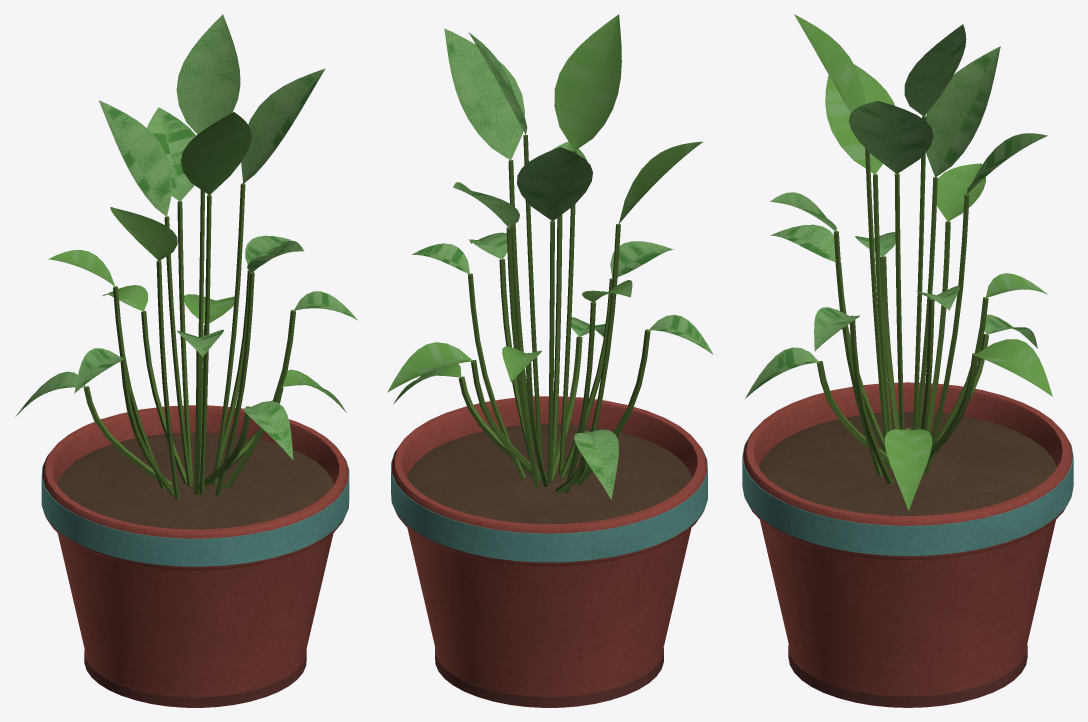
The model's file is potted_plant.glb.
The picture shows the model from 3 angles, left to right: view 1: azimuth 30°, elevation 25°; view 2: azimuth 150°, elevation 25°; view 3: azimuth 270°, elevation 25°; orthographic projection. The views are drawn at different scales.
Visible parts, largest first — view 1: PottedPlantBody; view 2: PottedPlantBody; view 3: PottedPlantBody.
Part boxes in pixels (bbox=[...]): PottedPlantBody: bbox=[15, 14, 357, 707]; PottedPlantBody: bbox=[387, 14, 713, 707]; PottedPlantBody: bbox=[742, 14, 1073, 707].
Bounding box in the file's own units: 0.4734 × 0.9547 × 0.4324.
Materials: 8 (4 with a texture image).
